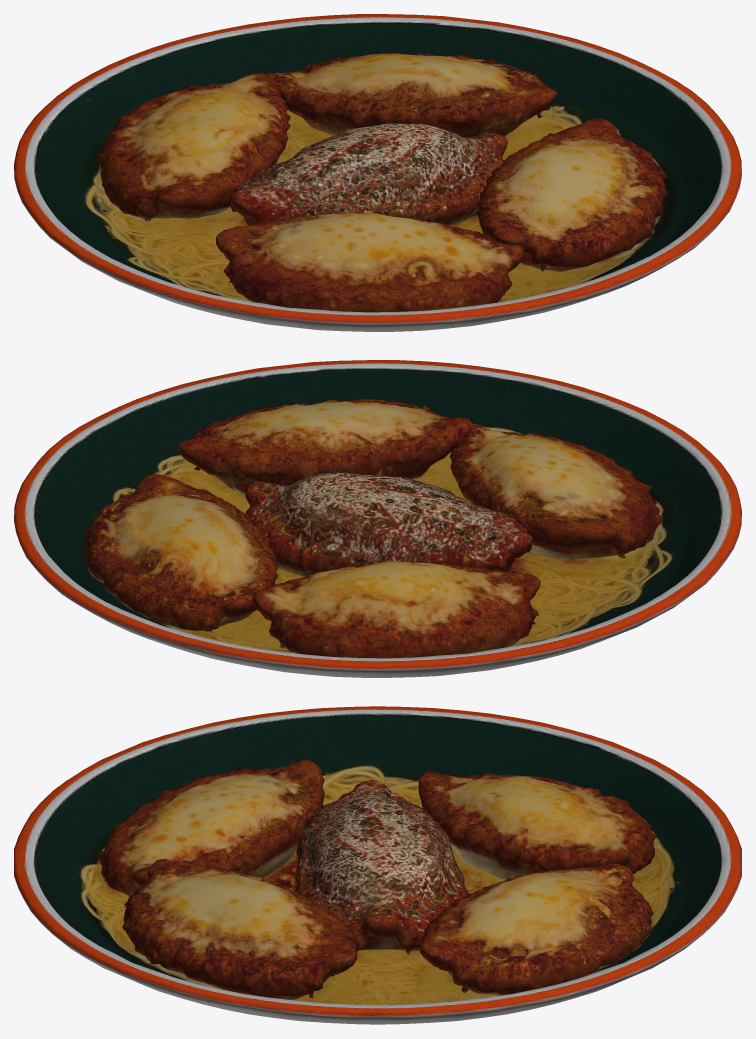
File: abb_pollo_parmigiana.fbx
3 renders of one model, top to bottom at view 1: azimuth 30°, elevation 25°; view 2: azimuth 150°, elevation 25°; view 3: azimuth 270°, elevation 25°, orthographic.
Visible parts, largest first — view 1: meshes[0]; view 2: meshes[0]; view 3: meshes[0].
Part boxes in pixels (x1,y1,x2,y2): meshes[0]: [14, 14, 741, 331]; meshes[0]: [14, 360, 741, 677]; meshes[0]: [14, 706, 741, 1024].
Size of the model in its own units: 99.8 by 12.7 by 99.8.
Materials: 1 (1 with a texture image).
